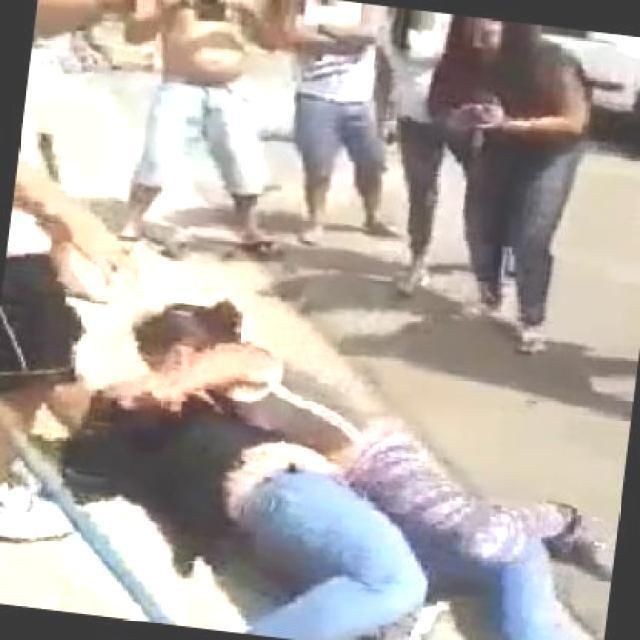fight: (40, 282, 625, 638)
